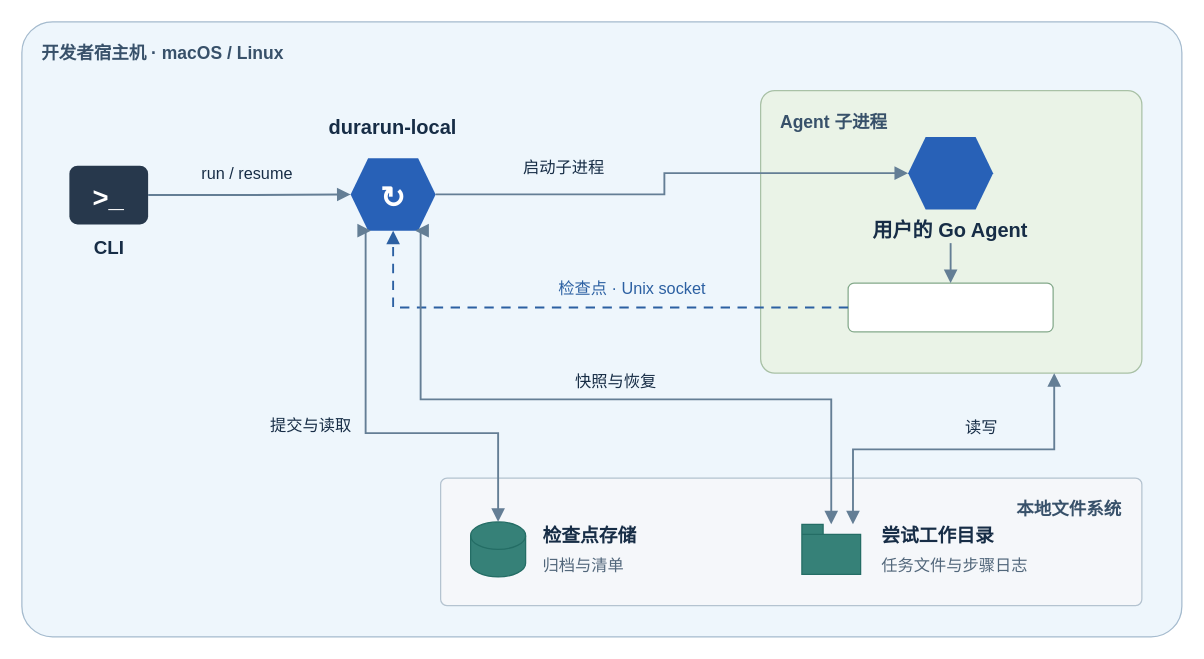
This 1204x659 diagram has some shape labels left out. The centre of each missing label's shape, as x and y in pixels:
"DuraRun Go SDK" belongs at (x=950, y=307).
"Go" belongs at (x=950, y=172).
